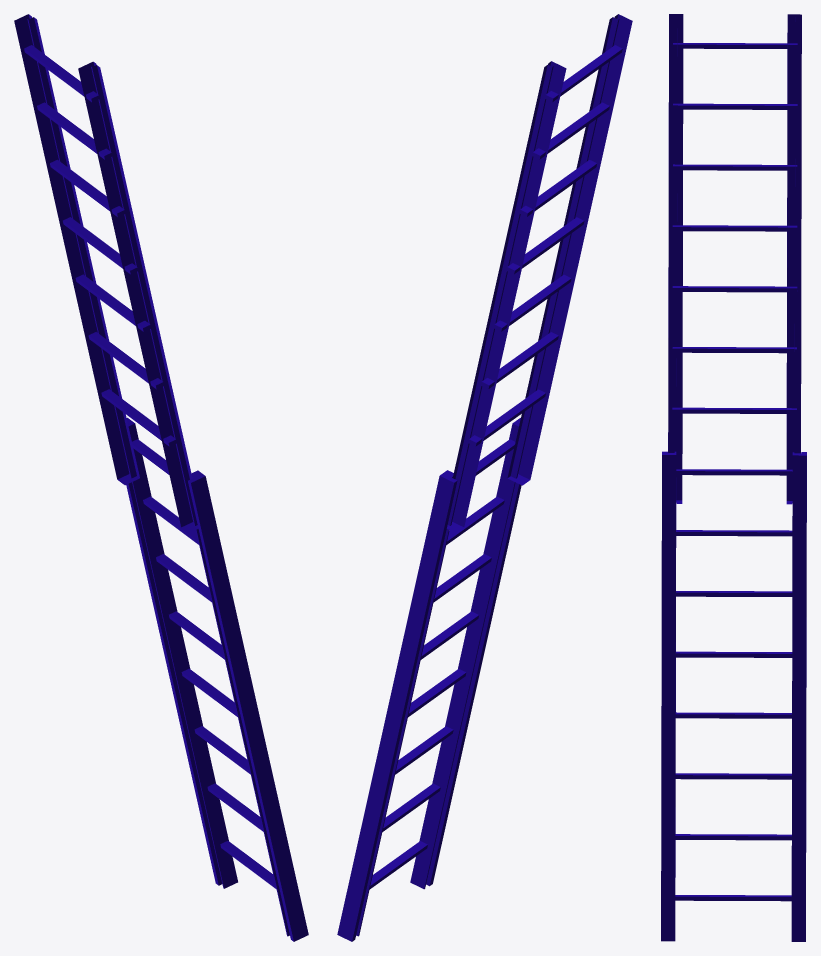
The model's file is Stairwell (Base).obj.
The picture shows the model from 3 angles, left to right: view 1: azimuth 30°, elevation 25°; view 2: azimuth 150°, elevation 25°; view 3: azimuth 270°, elevation 25°; orthographic projection. The views are drawn at different scales.
Visible parts, largest first — view 1: Stairwell_4; view 2: Stairwell_4; view 3: Stairwell_4.
Part boxes in pixels (<box>): Stairwell_4: <box>14,14,308,941</box>; Stairwell_4: <box>337,14,632,941</box>; Stairwell_4: <box>661,14,806,941</box>.
Bounding box in the file's own units: 0.777 × 3.1 × 0.4901.
